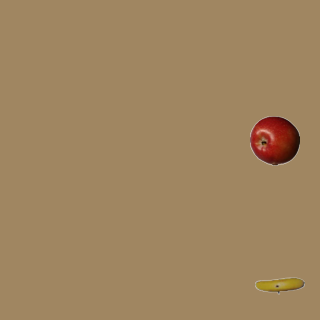Apple Braeburn: (249, 115, 299, 165)
Banana: (254, 260, 304, 310)
